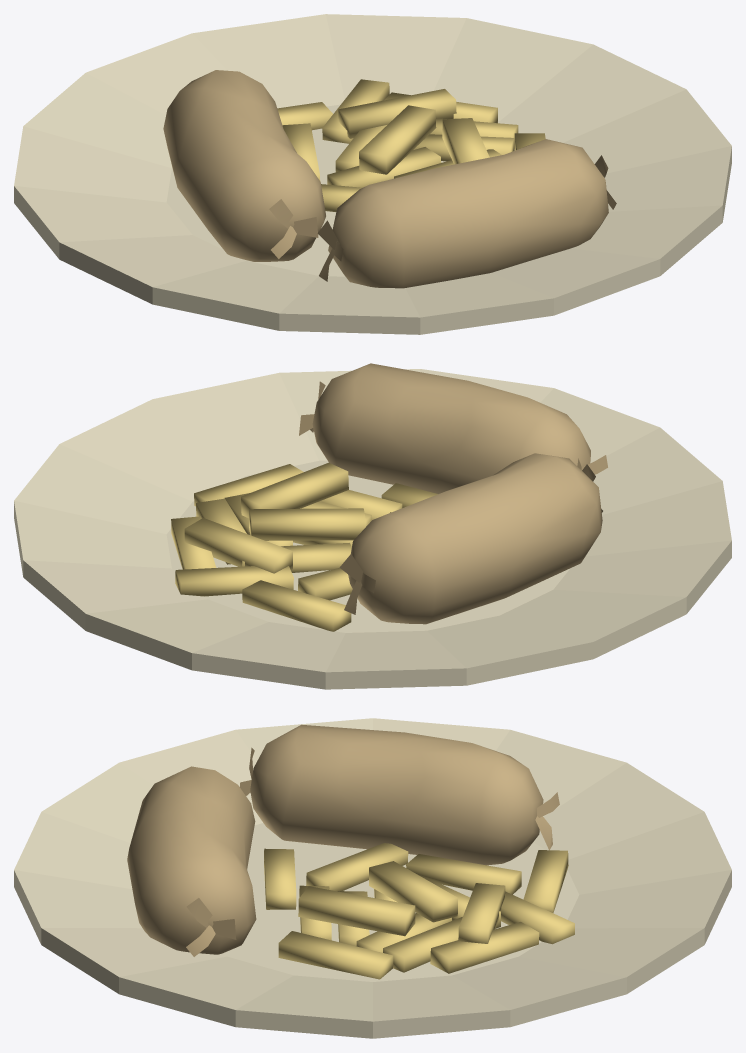
File: AndouillettesWashed.fbx
3 views of the same model, one above another, from view 1: azimuth 30°, elevation 25°; view 2: azimuth 150°, elevation 25°; view 3: azimuth 270°, elevation 25° (orthographic).
Visible parts, largest first — view 1: Andouillettes_Washed; view 2: Andouillettes_Washed; view 3: Andouillettes_Washed.
Boxes of the visible parts, x1,y1,x2,y2 form: Andouillettes_Washed: (14, 14, 731, 334); Andouillettes_Washed: (14, 363, 731, 689); Andouillettes_Washed: (14, 718, 731, 1038).
Bounding box in the file's own units: 0.6488 × 0.6488 × 0.1336.
